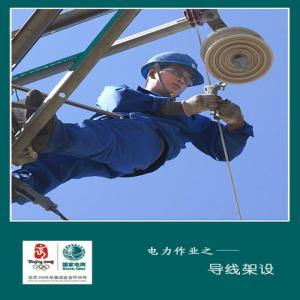blue: (138, 51, 205, 97)
